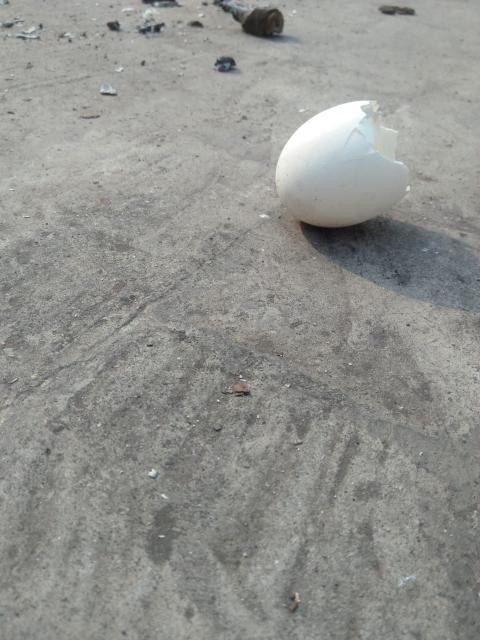Roto: (274, 99, 411, 228)
